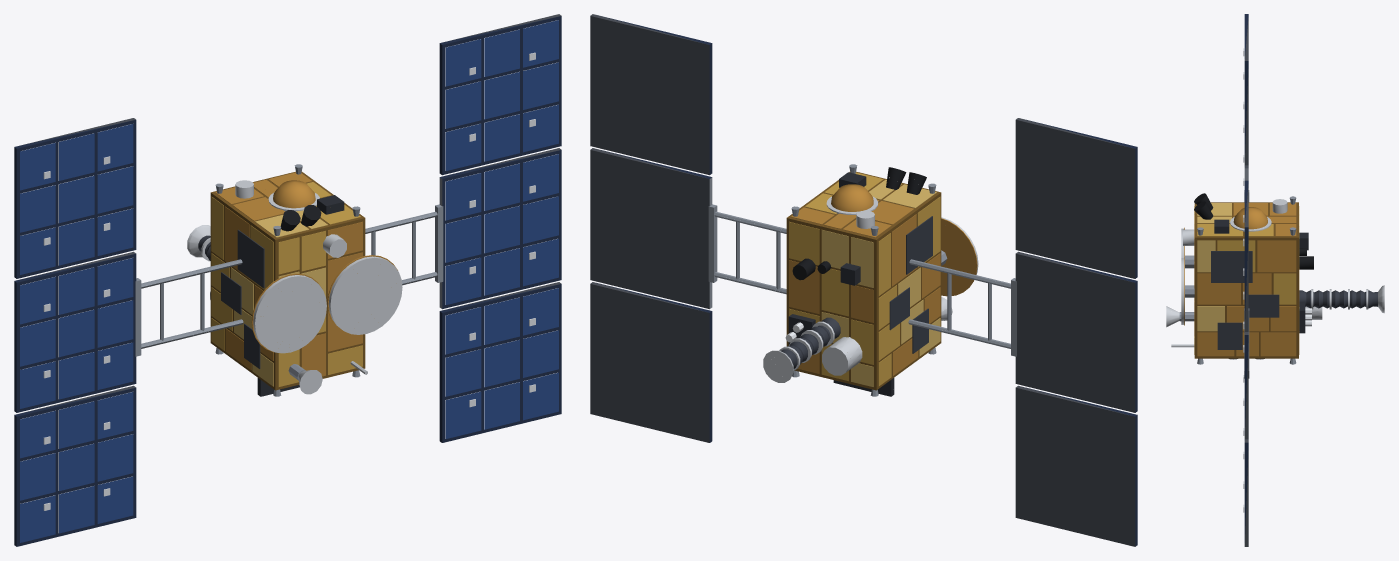
File: hayabusa2.glb
3 renders of one model, left to right at view 1: azimuth 30°, elevation 25°; view 2: azimuth 150°, elevation 25°; view 3: azimuth 270°, elevation 25°, orthographic. The views are drawn at different scales.
Parts seen in each view (by area): view 1: solar-panel, body, foil; view 2: body, foil; view 3: foil, body, solar-panel.
Boxes of the visible parts, x1=… form: solar-panel: x1=20, y1=20, x2=558, y2=542; body: x1=14, y1=14, x2=561, y2=546; foil: x1=210, y1=171, x2=397, y2=390; body: x1=590, y1=14, x2=1137, y2=546; foil: x1=786, y1=171, x2=977, y2=390; foil: x1=1184, y1=202, x2=1299, y2=358; body: x1=1166, y1=14, x2=1384, y2=546; solar-panel: x1=1243, y1=48, x2=1244, y2=512.
Size of the model in its own units: 6.06 by 4.23 by 2.62.
